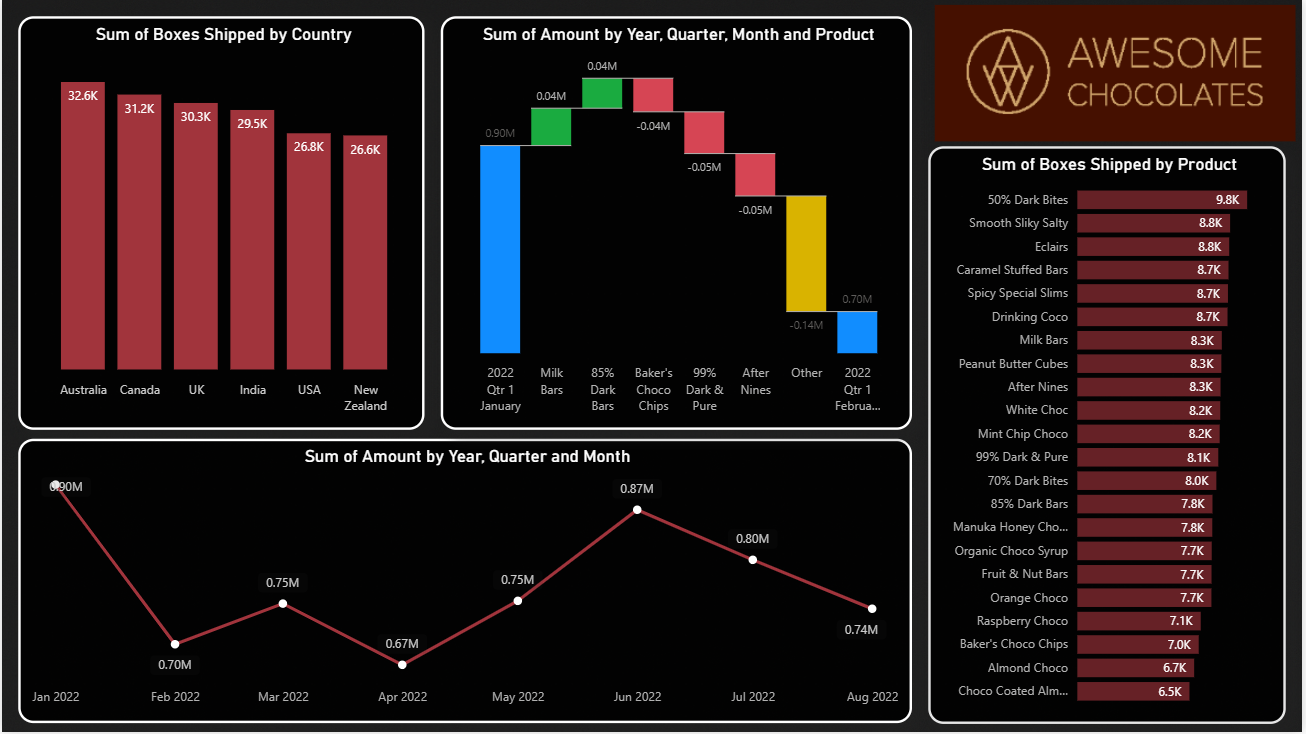

The page's visual inventory and layout, read from the dashboard file:
{"tool":"powerbi","page":{"name":"Dashboard","canvas":[1280,720],"ordinal":0},"visuals":[{"type":"columnChart","fields":{"Category":["data.Country"],"Y":["Sum(data.Boxes Shipped)"]},"box":[16,16,400,407],"z":0},{"type":"barChart","fields":{"Category":["data.Product"],"Y":["Sum(data.Boxes Shipped)"]},"box":[912,144,352,569],"z":1},{"type":"lineChart","fields":{"Category":["data.Date.Variation.Date Hierarchy.Year","data.Date.Variation.Date Hierarchy.Quarter","data.Date.Variation.Date Hierarchy.Month","data.Date.Variation.Date Hierarchy.Day"],"Y":["Sum(data.Amount)"]},"box":[16,432,880,280],"z":2},{"type":"waterfallChart","fields":{"Category":["data.Date.Variation.Date Hierarchy.Year","data.Date.Variation.Date Hierarchy.Quarter","data.Date.Variation.Date Hierarchy.Month"],"Breakdown":["data.Product"],"Y":["Sum(data.Amount)"]},"box":[432,16,464,407],"z":3},{"type":"image","box":[912,0,368,144],"z":4}]}

Visuals, with their boxes in screenshot pixels (x1, y1, x2, y2), scaled from the page's 1280x720 canvas onto the 1306x734 screenshot:
columnChart - data.Country x Sum(data.Boxes Shipped): x1=16, y1=16, x2=424, y2=431
barChart - data.Product x Sum(data.Boxes Shipped): x1=931, y1=147, x2=1290, y2=727
lineChart - data.Date.Variation.Date Hierarchy.Year x data.Date.Variation.Date Hierarchy.Quarter: x1=16, y1=440, x2=914, y2=726
waterfallChart - data.Date.Variation.Date Hierarchy.Year x data.Date.Variation.Date Hierarchy.Quarter: x1=441, y1=16, x2=914, y2=431
image: x1=931, y1=0, x2=1305, y2=147
